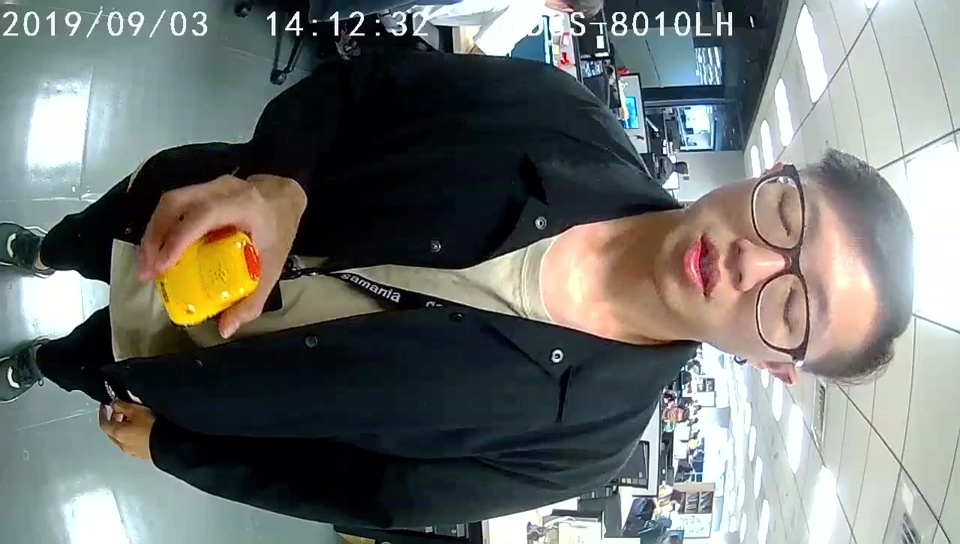car: (159, 227, 259, 325)
